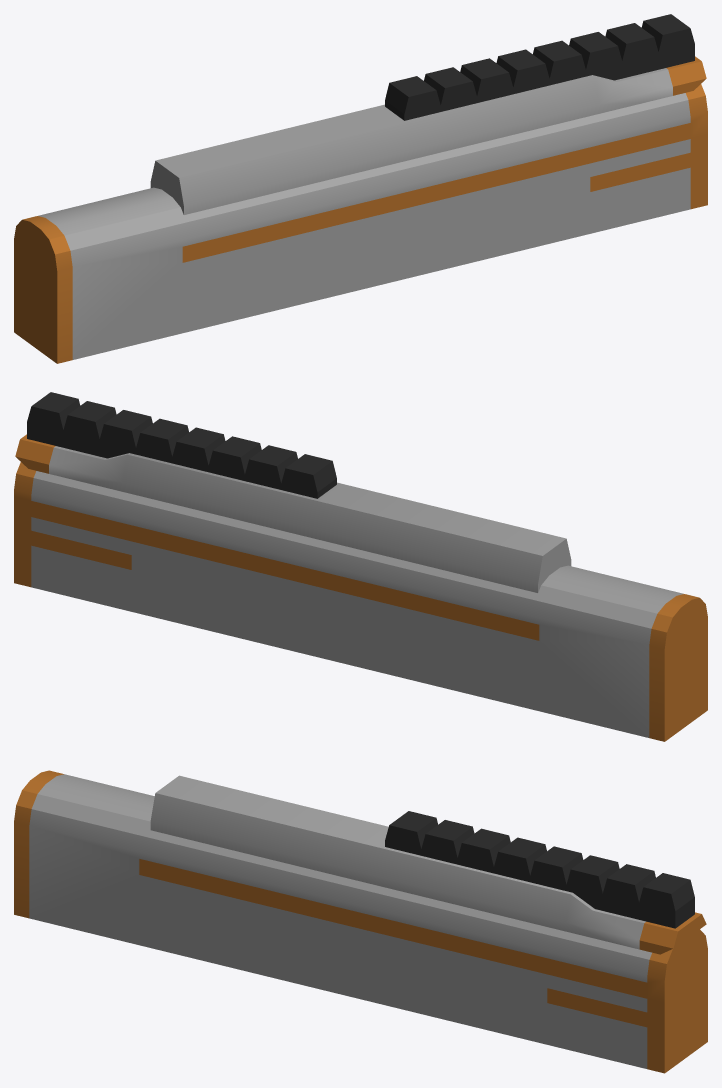
Rendered from quaternius-modular-sci-fi-guns-body-pistol-3.glb.
3 renders of one model, top to bottom at view 1: azimuth 30°, elevation 25°; view 2: azimuth 150°, elevation 25°; view 3: azimuth 330°, elevation 25°, orthographic.
Parts seen in each view (by area): view 1: Body_Pistol_3; view 2: Body_Pistol_3; view 3: Body_Pistol_3.
Boxes of the visible parts, left/top/right/bottom form: Body_Pistol_3: left=14, top=14, right=707, bottom=363; Body_Pistol_3: left=14, top=392, right=707, bottom=741; Body_Pistol_3: left=14, top=770, right=707, bottom=1073.
Bounding box in the file's own units: 0.7919 × 0.196 × 0.0905.
